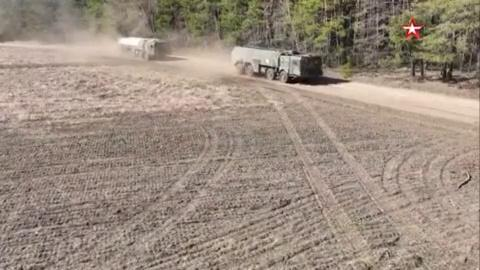rszo: (229, 46, 324, 84), (119, 36, 171, 61)
